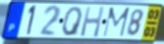1: (25, 4, 38, 37)
2: (39, 5, 62, 38)
8: (126, 8, 145, 38)
H: (79, 5, 106, 39)
M: (101, 6, 132, 38)
Q: (61, 6, 84, 37)
